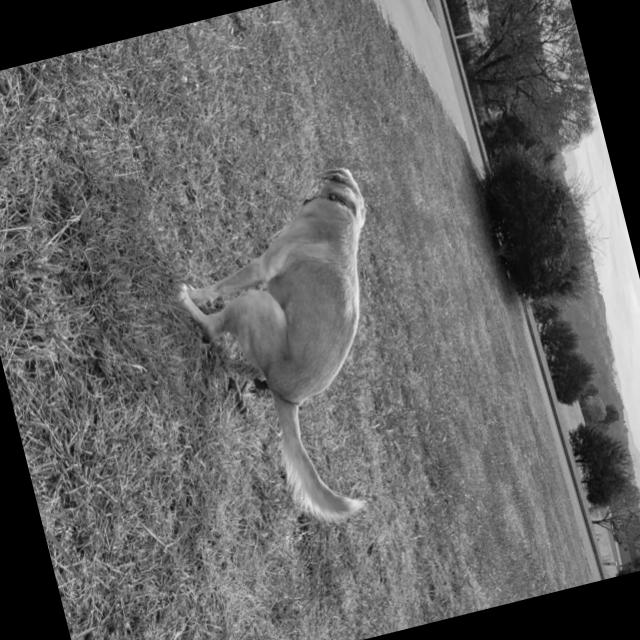squatting: (146, 147, 446, 553)
